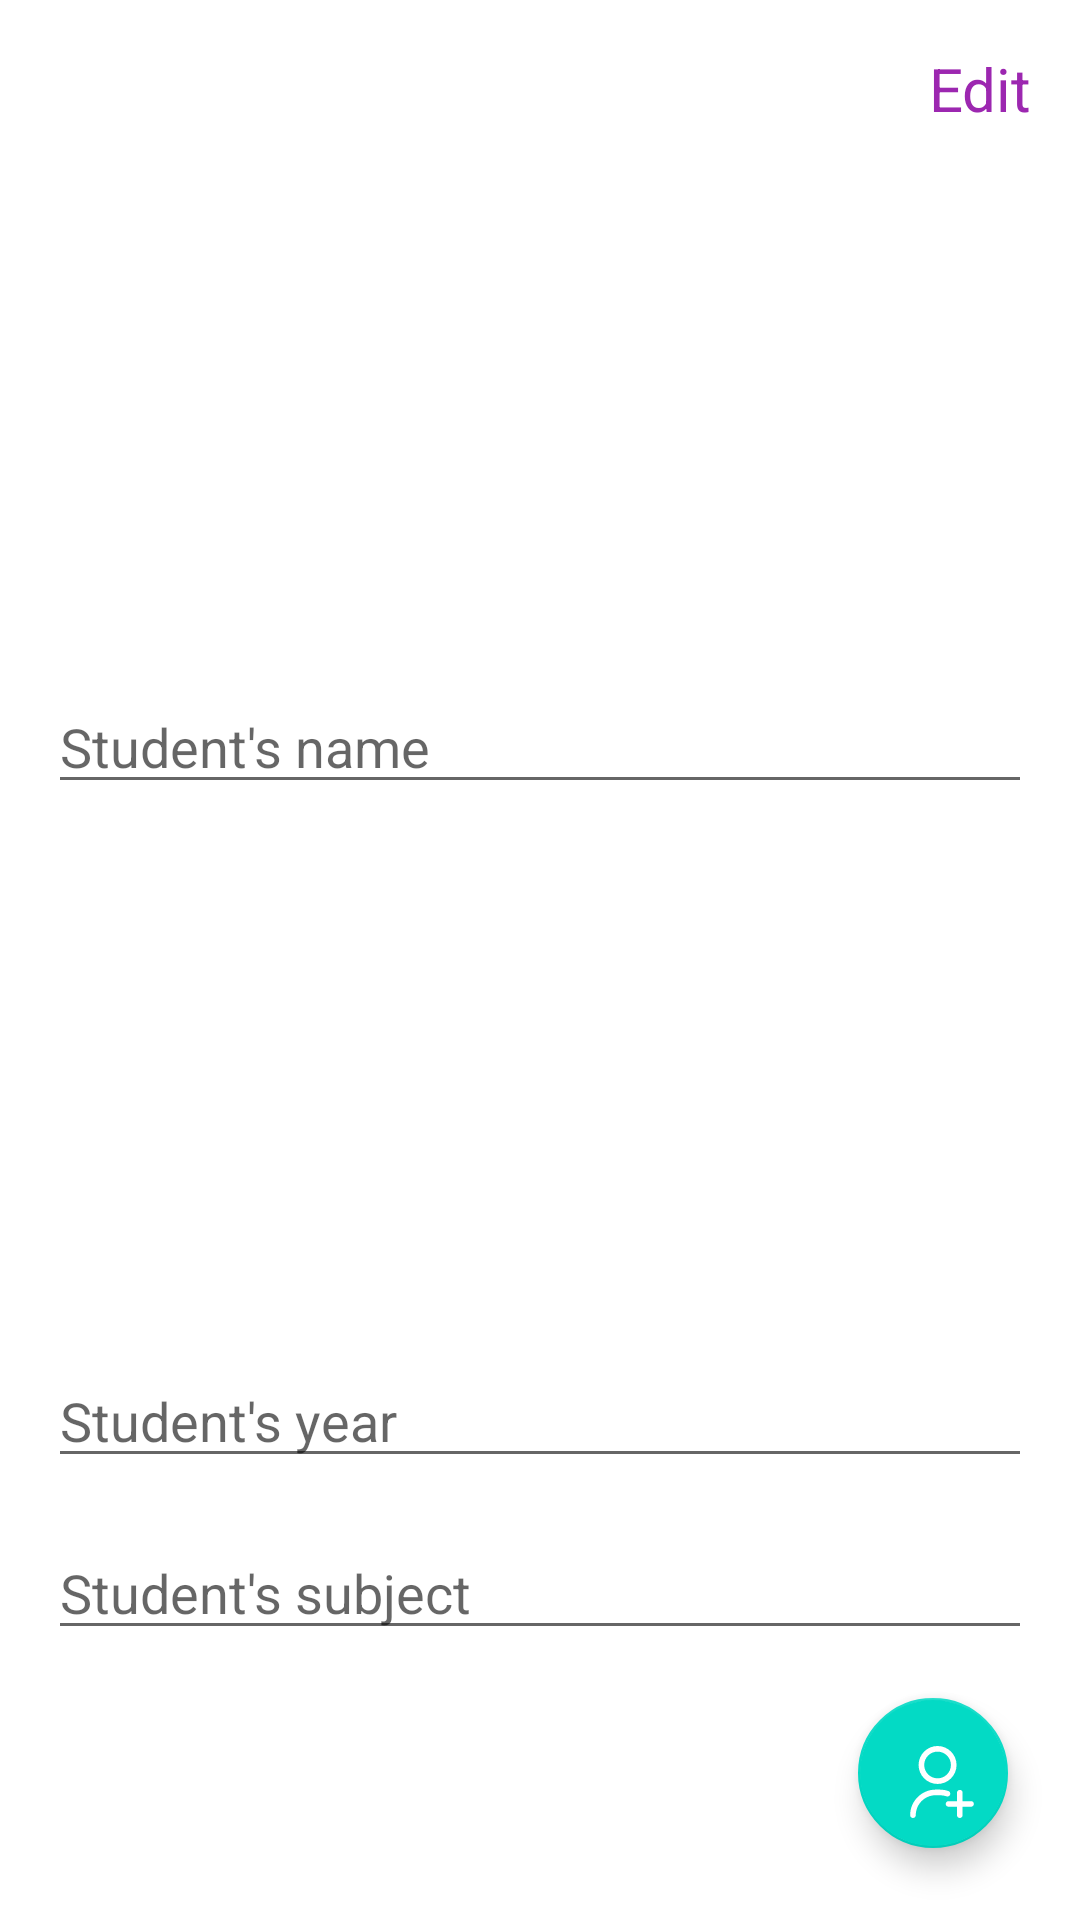

Locate icon controls on the screen. Image size 1080px×1920px, boxes as (x1, y1, x2, y2).
add user: (858, 1698, 1008, 1848)
